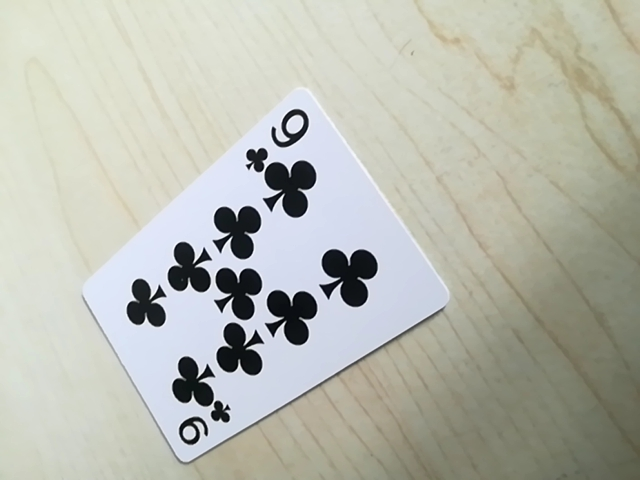mh 9: (238, 98, 316, 173), (167, 397, 230, 458)
